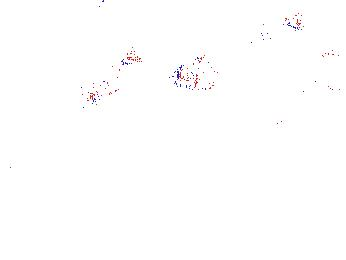X-ray fish: (166, 53, 224, 93)
glassfish: (224, 99, 327, 166)
redtail glassfish: (81, 41, 141, 106), (239, 11, 304, 46), (275, 76, 341, 107)
